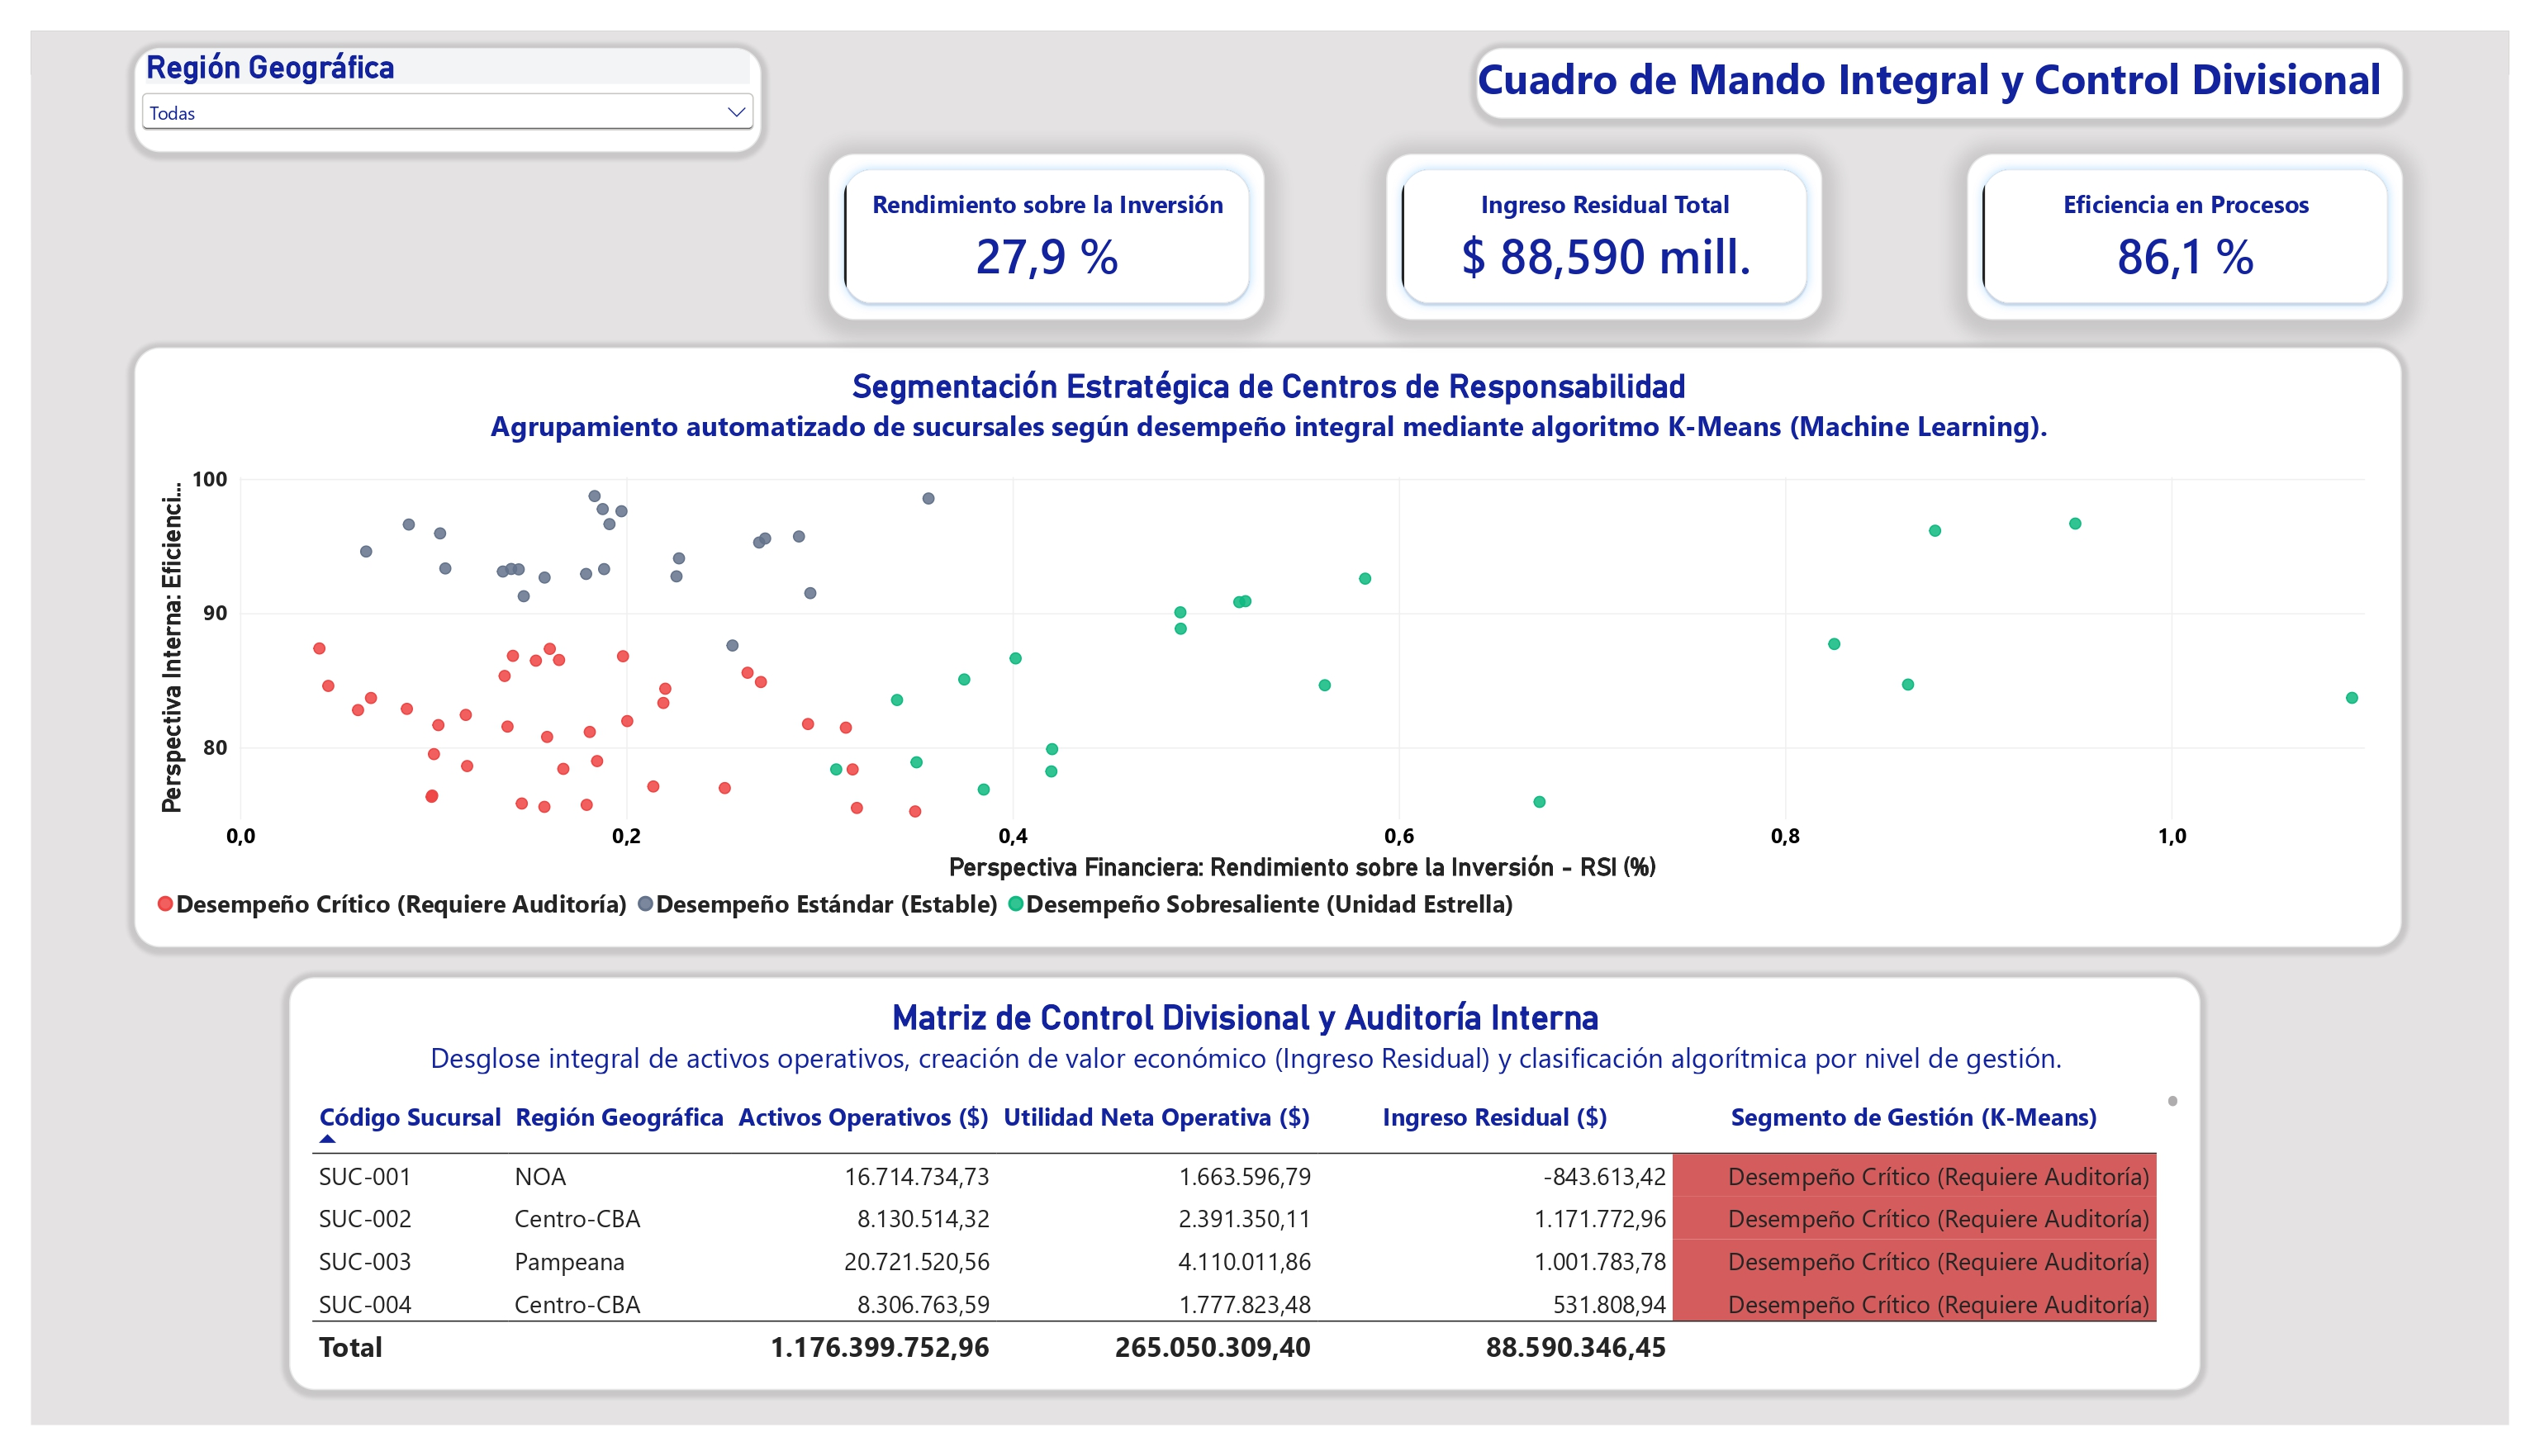

The page's visual inventory and layout, read from the dashboard file:
{"tool":"powerbi","page":{"name":"Balanced Scorecard Divisional","canvas":[1920,1080],"ordinal":0},"visuals":[{"type":"textbox","box":[1120,12.5,718.4,55.1],"z":0},{"type":"scatterChart","title":"Segmentación Estratégica de Centros de Responsabilidad","fields":{"X":["proyecto3_scorecard v_bi_cuadro_mando.RSI Promedio Corp"],"Y":["Sum(proyecto3_scorecard v_bi_cuadro_mando.% Entregas a Tiempo (Procesos))"],"Category":["proyecto3_scorecard v_bi_cuadro_mando.Código Sucursal"],"Series":["proyecto3_scorecard v_bi_cuadro_mando.Segmento de Gestión (K-Means)"]},"box":[80,245,1757.1,465.3],"z":1000},{"type":"tableEx","title":"Matriz de Control Divisional y Auditoría Interna","fields":{"Values":["proyecto3_scorecard v_bi_cuadro_mando.Código Sucursal","proyecto3_scorecard v_bi_cuadro_mando.Región Geográfica","Sum(proyecto3_scorecard v_bi_cuadro_mando.Activos Operativos ($))","Sum(proyecto3_scorecard v_bi_cuadro_mando.Utilidad Neta Operativa ($))","Sum(proyecto3_scorecard v_bi_cuadro_mando.Ingreso Residual ($))","proyecto3_scorecard v_bi_cuadro_mando.Segmento de Gestión (K-Means)"]},"box":[200,732.5,1481.2,321],"z":2000},{"type":"cardVisual","fields":{"Data":["proyecto3_scorecard v_bi_cuadro_mando.RSI Promedio Corp"]},"box":[617.5,95,338.8,128.6],"z":3000},{"type":"cardVisual","fields":{"Data":["proyecto3_scorecard v_bi_cuadro_mando.Ingreso Residual Total"]},"box":[1050,95,338,128.6],"z":4000},{"type":"cardVisual","fields":{"Data":["proyecto3_scorecard v_bi_cuadro_mando.Eficiencia en Procesos"]},"box":[1500,95,338,128.6],"z":5000},{"type":"slicer","fields":{"Values":["proyecto3_scorecard v_bi_cuadro_mando.Región Geográfica"]},"box":[80,12.5,485.7,81.6],"z":6000}]}

Visuals, with their boxes on the page's 1920x1080 design canvas (x1, y1, x2, y2). These are canvas units, not pixel positions in the 2540x1456 screenshot, which may show the page scaled, cropped or inside an application window:
textbox: rect(1120, 12, 1838, 68)
"Segmentación Estratégica de Centros de Responsabilidad" scatterChart: rect(80, 245, 1837, 710)
"Matriz de Control Divisional y Auditoría Interna" tableEx: rect(200, 732, 1681, 1054)
cardVisual - proyecto3_scorecard v_bi_cuadro_mando.RSI Promedio Corp: rect(618, 95, 956, 224)
cardVisual - proyecto3_scorecard v_bi_cuadro_mando.Ingreso Residual Total: rect(1050, 95, 1388, 224)
cardVisual - proyecto3_scorecard v_bi_cuadro_mando.Eficiencia en Procesos: rect(1500, 95, 1838, 224)
slicer - proyecto3_scorecard v_bi_cuadro_mando.Región Geográfica: rect(80, 12, 566, 94)
